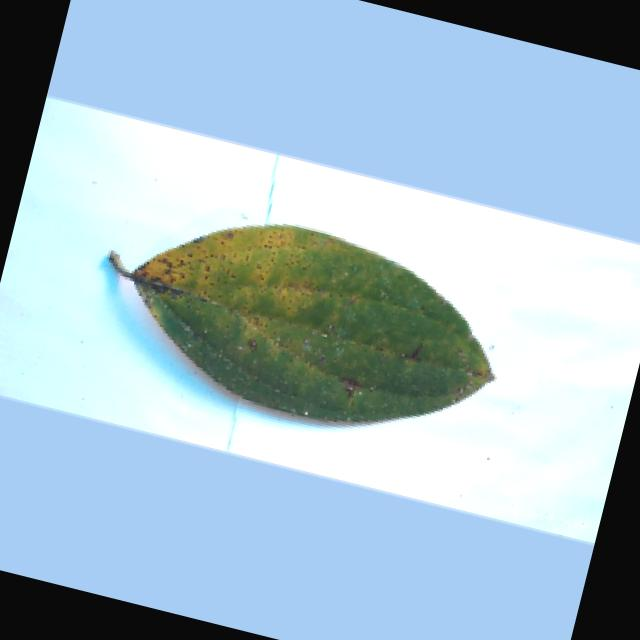slow-decline: (74, 173, 530, 466)
